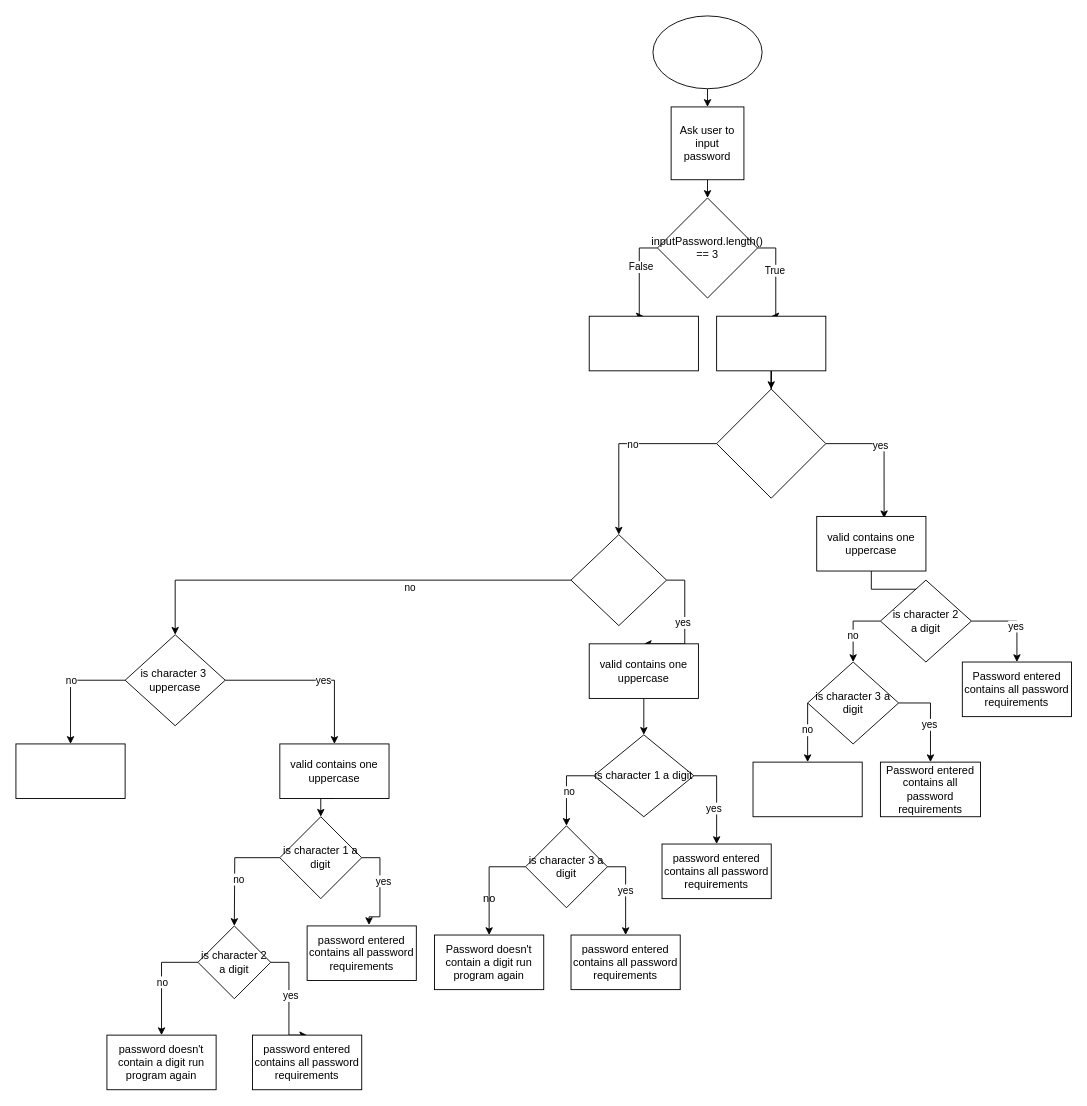
Image size: 1087x1106. Some labels were removed from this diagram. The box of each missing label's shape, as (x1, y1, x2, y2) in pixels:
invalid doesn't contain uppercase letter run again: (15, 743, 125, 799)
is character 1 uppercase: (716, 388, 826, 498)
is character 2 uppercase: (570, 534, 667, 626)
Password doesn't contain a digit run again: (752, 761, 862, 817)
Print "invalid password run again: (588, 315, 698, 371)
Print valid 3 character: (716, 315, 826, 371)
Start: (652, 15, 762, 89)
